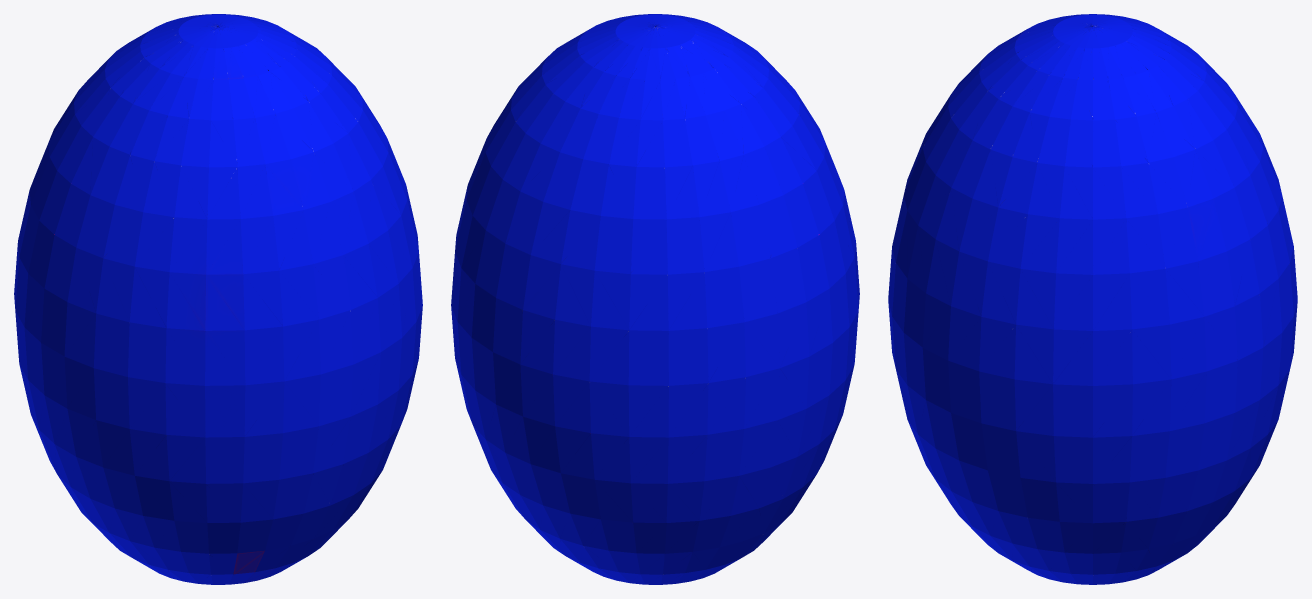
The model's file is keystone_blue.obj.
The picture shows the model from 3 angles, left to right: view 1: azimuth 30°, elevation 25°; view 2: azimuth 150°, elevation 25°; view 3: azimuth 270°, elevation 25°; orthographic projection.
Bounding box in the file's own units: 1 × 1.47 × 1.
